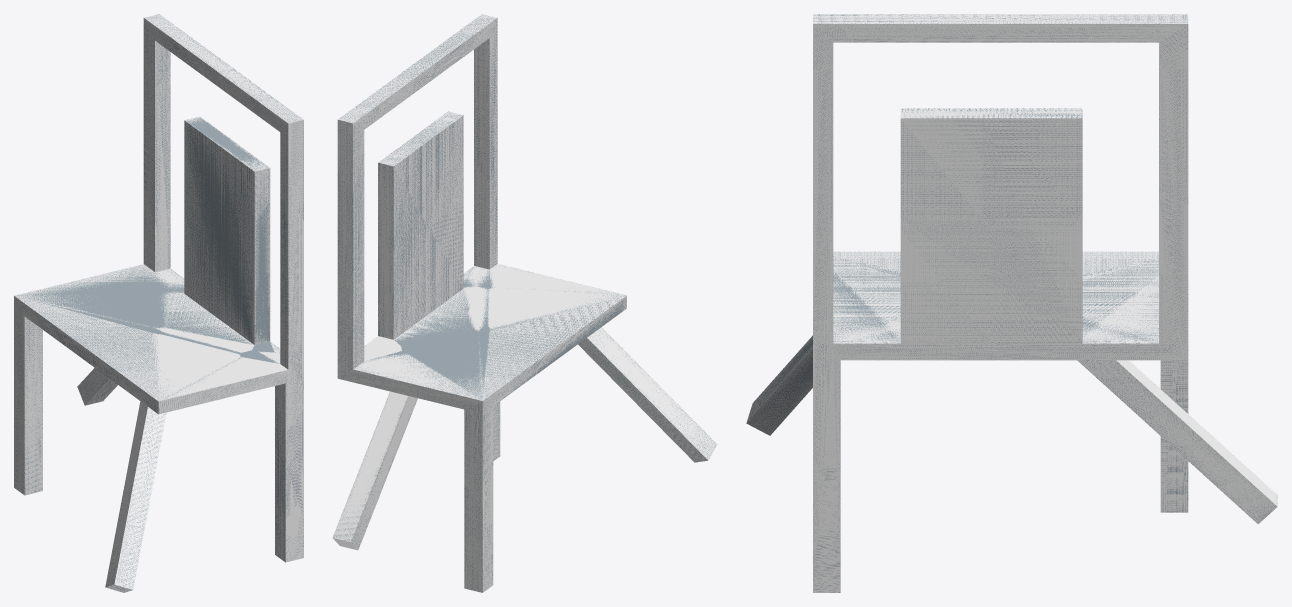
File: brokenchair.fbx
The picture shows the model from 3 angles, left to right: view 1: azimuth 30°, elevation 25°; view 2: azimuth 150°, elevation 25°; view 3: azimuth 270°, elevation 25°; orthographic projection. The views are drawn at different scales.
Parts seen in each view (by area): view 1: Model; view 2: Model; view 3: Model.
Boxes of the visible parts, box(x1,y1,x2,y2) form: Model: box(14, 14, 303, 592); Model: box(332, 14, 717, 592); Model: box(746, 14, 1277, 592).
Bounding box in the file's own units: 5401 × 10634 × 8999.
